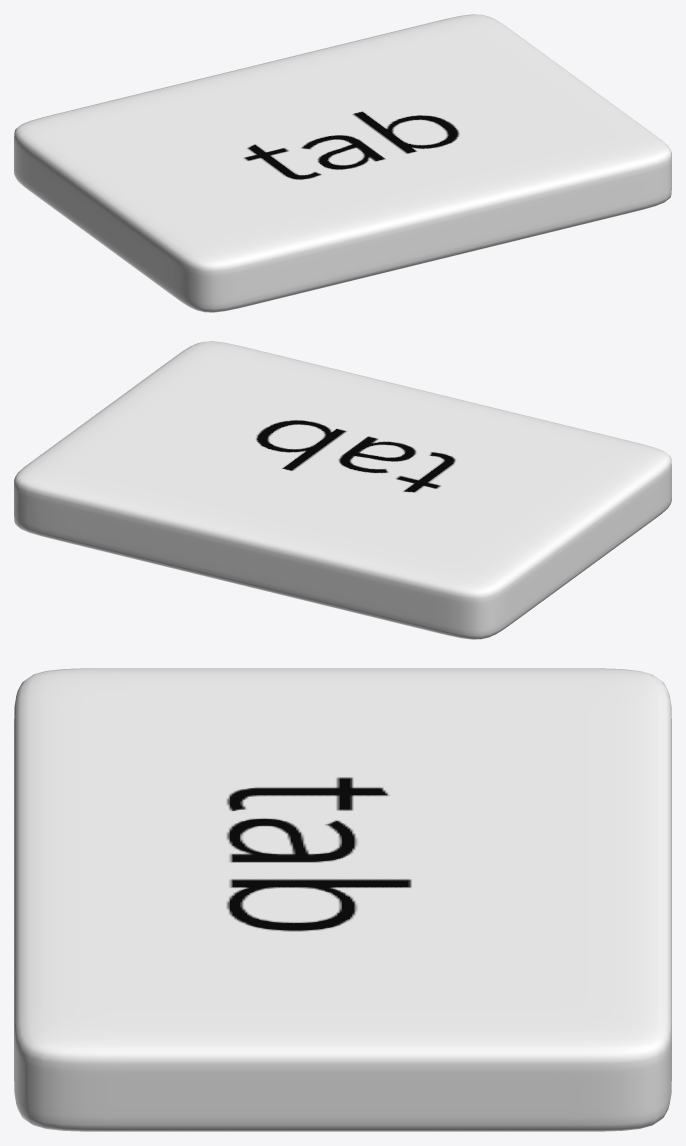
The model's file is 2_tab.fbx.
3 views of the same model, one above another, from view 1: azimuth 30°, elevation 25°; view 2: azimuth 150°, elevation 25°; view 3: azimuth 270°, elevation 25° (orthographic). The views are drawn at different scales.
Parts seen in each view (by area): view 1: 立方体; view 2: 立方体; view 3: 立方体.
Boxes of the visible parts, x1,y1,x2,y2 form: 立方体: (14, 14, 671, 312); 立方体: (14, 341, 671, 639); 立方体: (14, 668, 671, 1131).
Bounding box in the file's own units: 280 × 30 × 200.
Materials: 1 (1 with a texture image).
